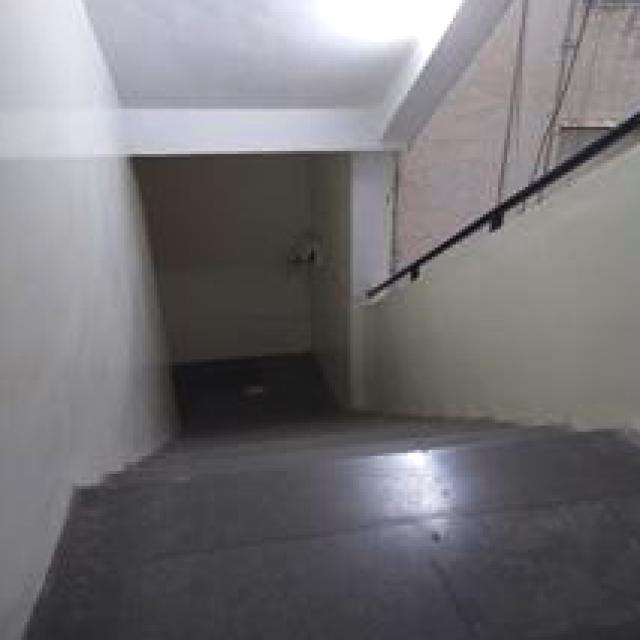downstair: (167, 394, 520, 524)
